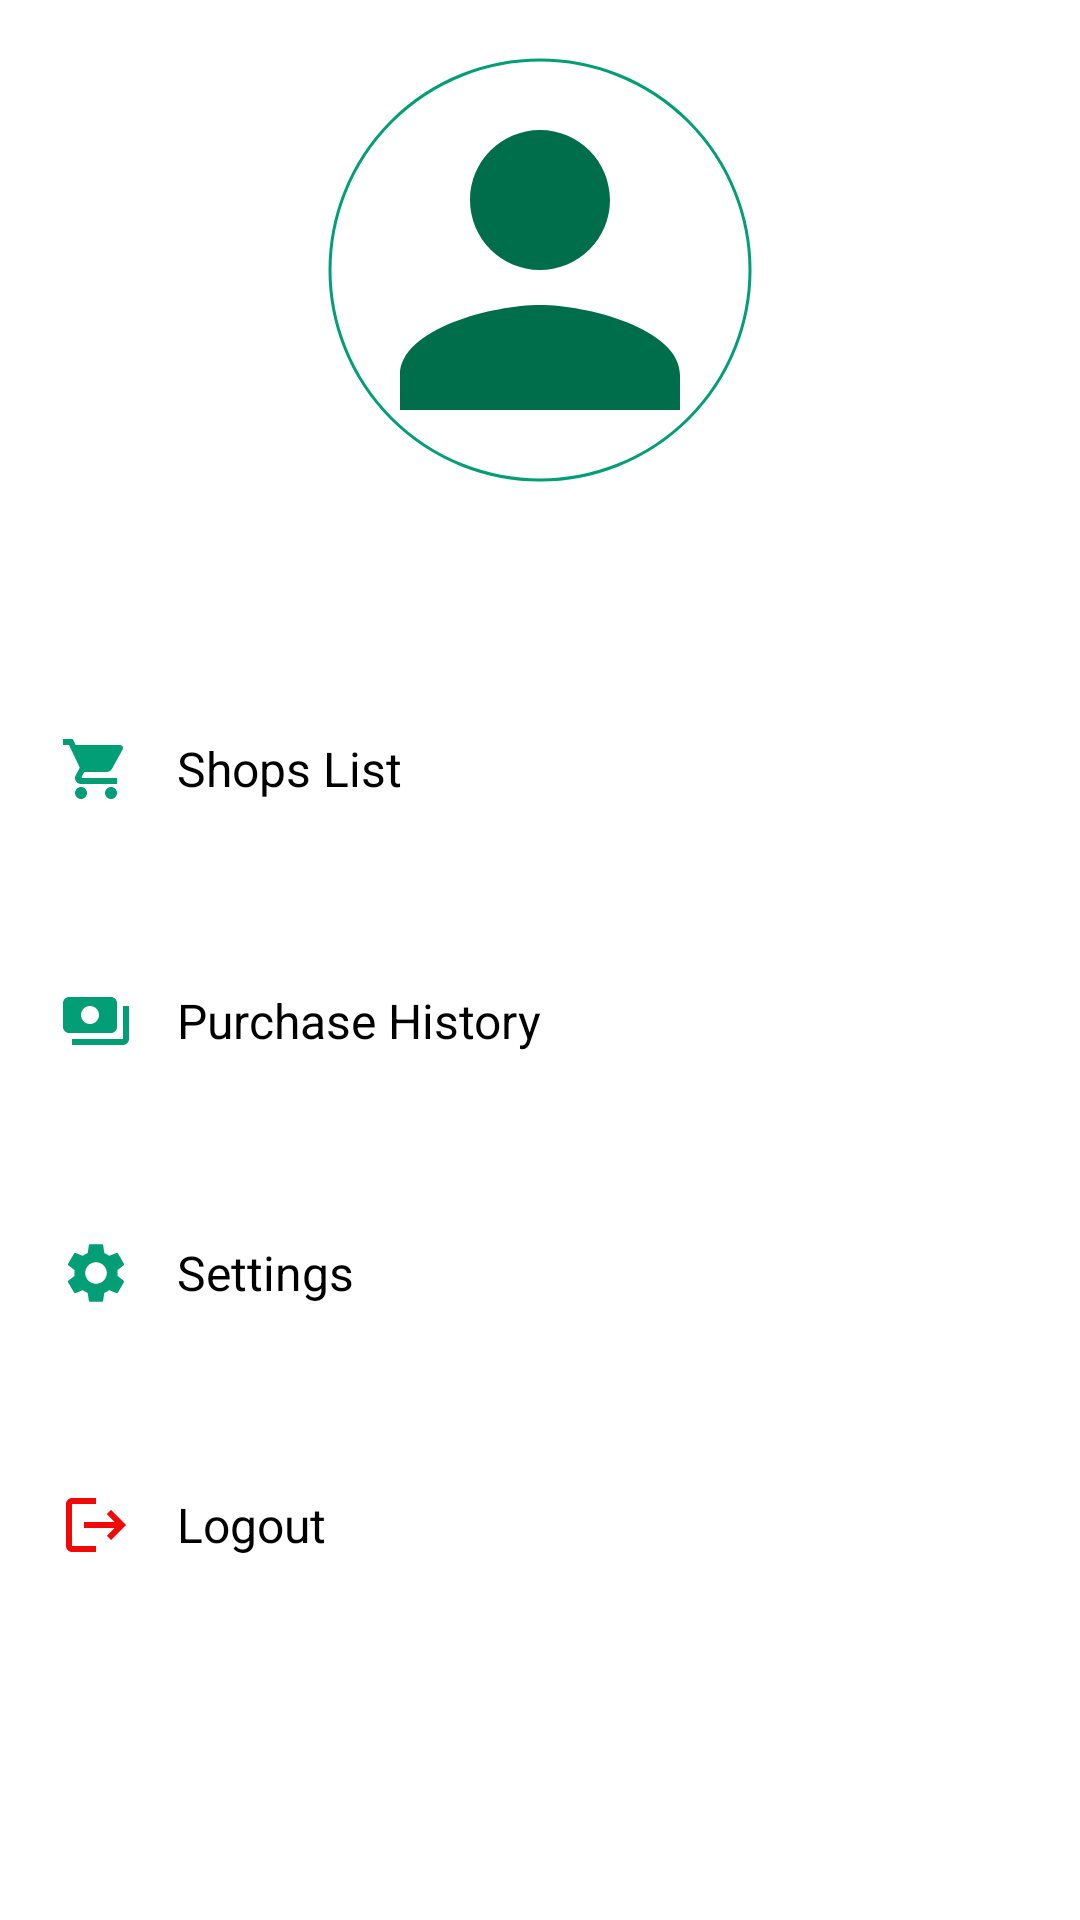

Icons on this 1080w x 1920h Android screen, each with its box as box(x1, y1, x2, y2):
payments: box(63, 997, 129, 1045)
shopping cart: box(63, 739, 123, 799)
